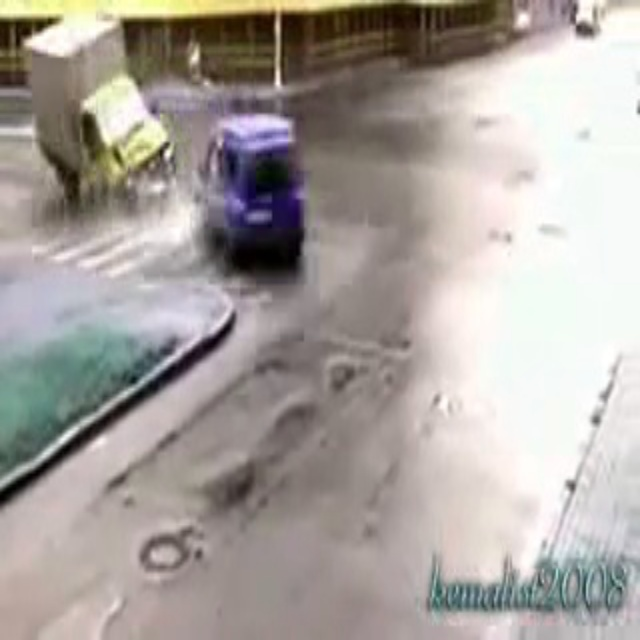acc: (42, 79, 312, 269)
